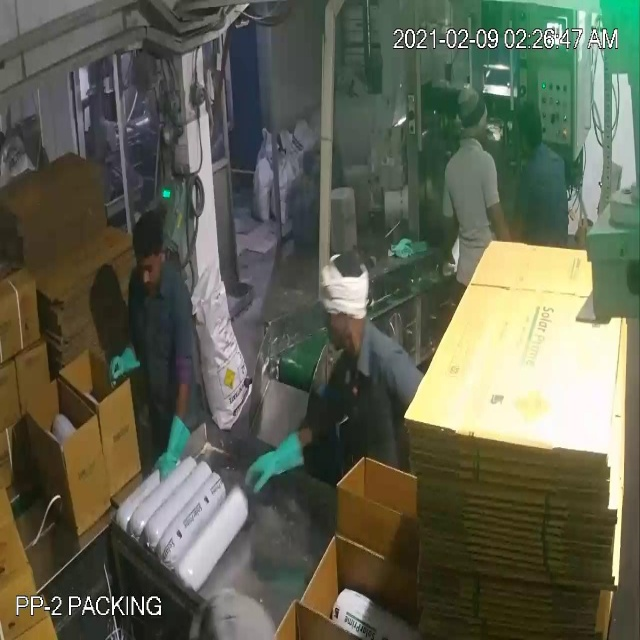Guantes: (236, 420, 317, 508), (153, 404, 193, 493), (105, 337, 147, 396)
Sin_guantes: (441, 209, 460, 277)
